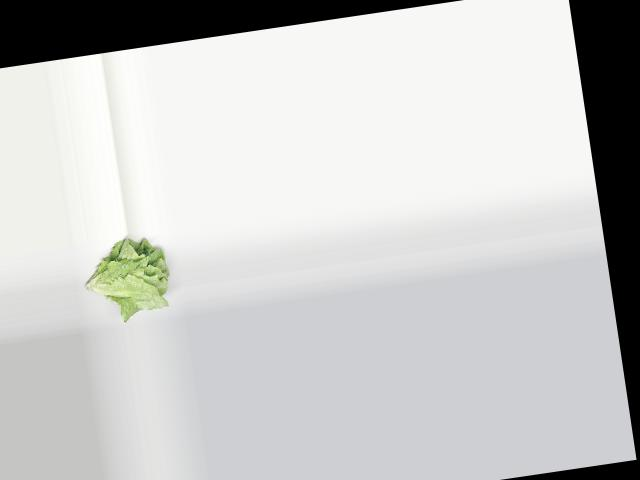lettuce: (75, 233, 178, 319)
